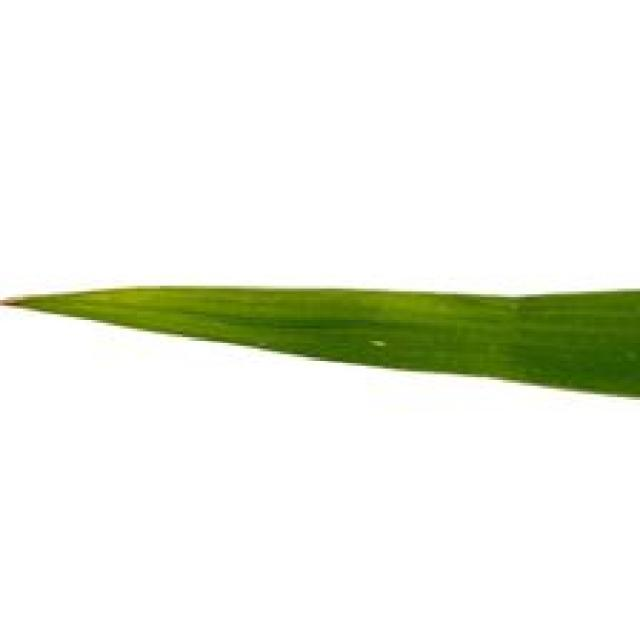Rice___Healthy_Rice_Plant: (1, 283, 637, 402)
